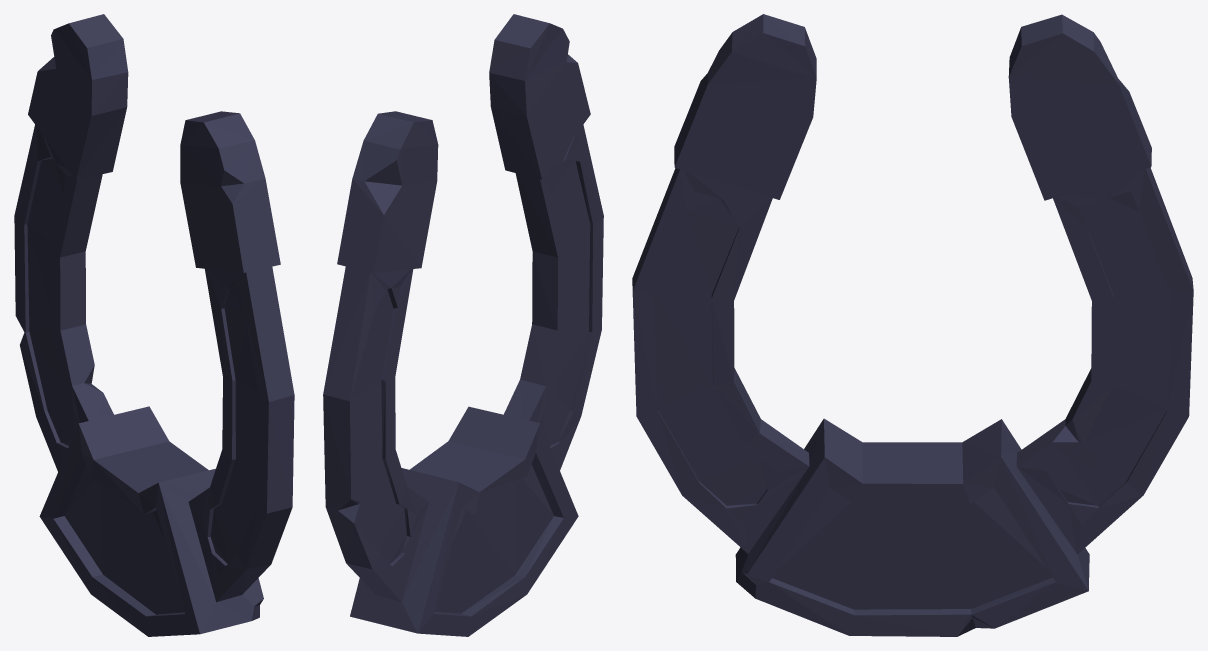
The model's file is SFFA_Horseshoe_001.fbx.
3 renders of one model, left to right at view 1: azimuth 30°, elevation 25°; view 2: azimuth 150°, elevation 25°; view 3: azimuth 270°, elevation 25°, orthographic. The views are drawn at different scales.
Parts seen in each view (by area): view 1: SFFA_Horseshoe_001; view 2: SFFA_Horseshoe_001; view 3: SFFA_Horseshoe_001.
Boxes of the visible parts, x1,y1,x2,y2 form: SFFA_Horseshoe_001: (14,14,294,636); SFFA_Horseshoe_001: (323,14,603,636); SFFA_Horseshoe_001: (632,14,1193,636).
Bounding box in the file's own units: 2.35 × 15.81 × 13.53.
